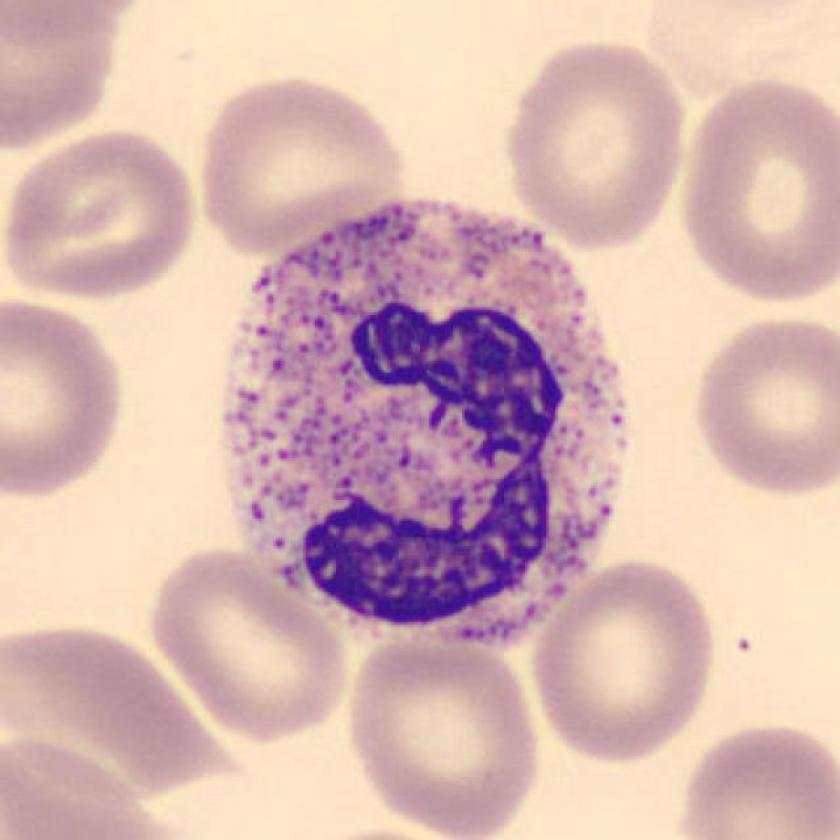neutrophil: (225, 202, 631, 639)
